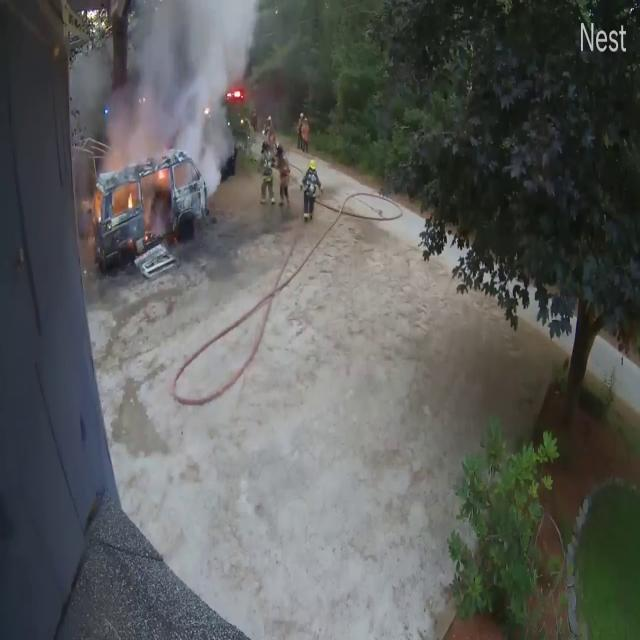Smoke: (103, 0, 270, 179)
